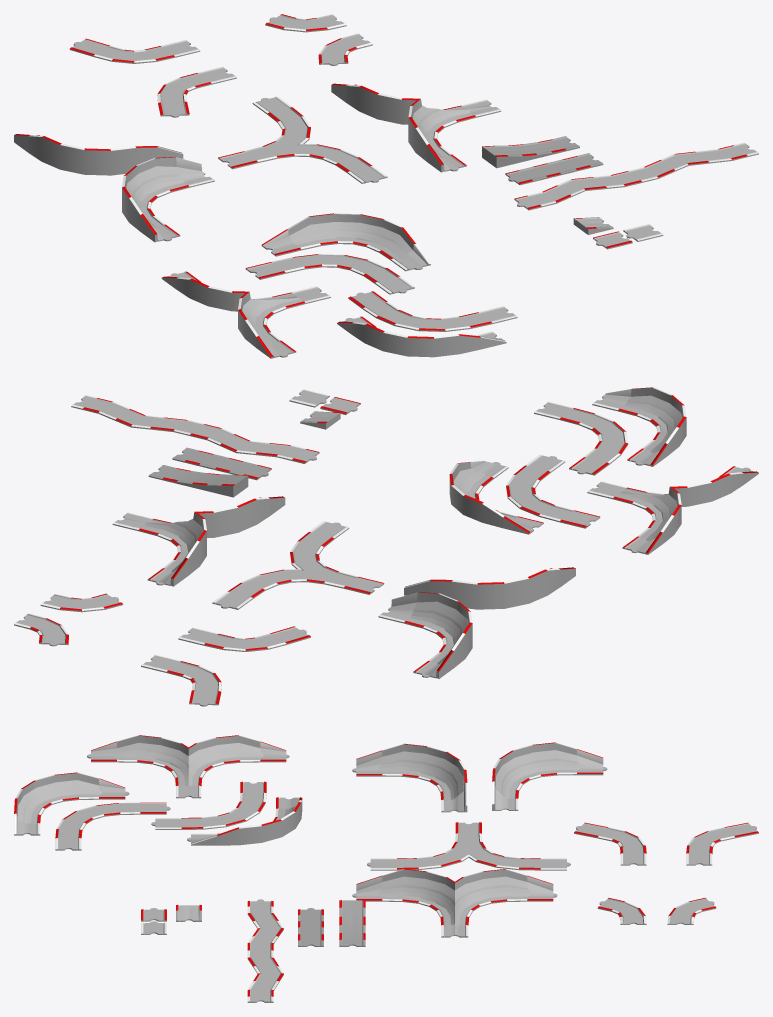
The model's file is racetracks2.fbx.
3 renders of one model, top to bottom at view 1: azimuth 30°, elevation 25°; view 2: azimuth 150°, elevation 25°; view 3: azimuth 270°, elevation 25°, orthographic. The views are drawn at different scales.
Parts seen in each view (by area): view 1: polySurface18, polySurface6, pCylinder3, polySurface19, polySurface17, pCube16, polySurface15, polySurface11, polySurface12, polySurface5, polySurface22, polySurface20 (+4 smaller); view 2: polySurface18, pCylinder3, polySurface19, polySurface15, pCube16, polySurface17, polySurface11, polySurface6, polySurface5, polySurface12, polySurface20, polySurface22 (+4 smaller); view 3: polySurface18, pCylinder3, polySurface15, polySurface17, polySurface11, polySurface19, pCube16, polySurface6, polySurface12, polySurface5, polySurface22, polySurface20 (+4 smaller).
Part boxes in pixels (box(x1,y1,x2,y2)): polySurface18: box(331, 83, 501, 172); polySurface6: box(261, 213, 430, 271); pCylinder3: box(161, 271, 330, 358); polySurface19: box(218, 96, 387, 183); polySurface17: box(122, 157, 214, 242); pCube16: box(514, 142, 758, 210); polySurface15: box(14, 134, 183, 175); polySurface11: box(337, 316, 506, 357); polySurface12: box(348, 291, 517, 331); polySurface5: box(245, 254, 414, 294); polySurface22: box(69, 38, 200, 63); polySurface20: box(157, 66, 236, 117); polySurface18: box(112, 496, 285, 586); pCylinder3: box(587, 466, 758, 554); polySurface19: box(212, 521, 384, 609); polySurface15: box(378, 592, 472, 678); pCube16: box(71, 395, 319, 463); polySurface17: box(404, 567, 575, 609); polySurface11: box(592, 387, 686, 466); polySurface6: box(449, 460, 543, 534); polySurface5: box(506, 454, 600, 528); polySurface12: box(534, 401, 628, 475); polySurface20: box(178, 626, 310, 651); polySurface22: box(141, 655, 221, 706); polySurface18: box(352, 869, 557, 937); pCylinder3: box(87, 735, 289, 798); polySurface15: box(492, 742, 607, 810); polySurface17: box(352, 743, 467, 812); polySurface11: box(14, 772, 129, 835); polySurface19: box(367, 822, 570, 870); pCube16: box(247, 899, 283, 1002); polySurface6: box(187, 797, 302, 845); polySurface12: box(55, 802, 170, 850); polySurface5: box(151, 781, 266, 829); polySurface22: box(686, 822, 758, 865); polySurface20: box(574, 822, 646, 865).
Size of the model in its own units: 549 by 23.09 by 687.
